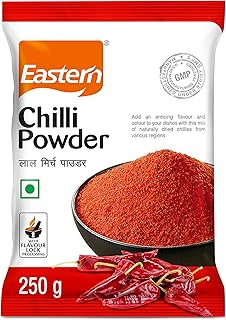Chilli Powder: (1, 3, 226, 318)
